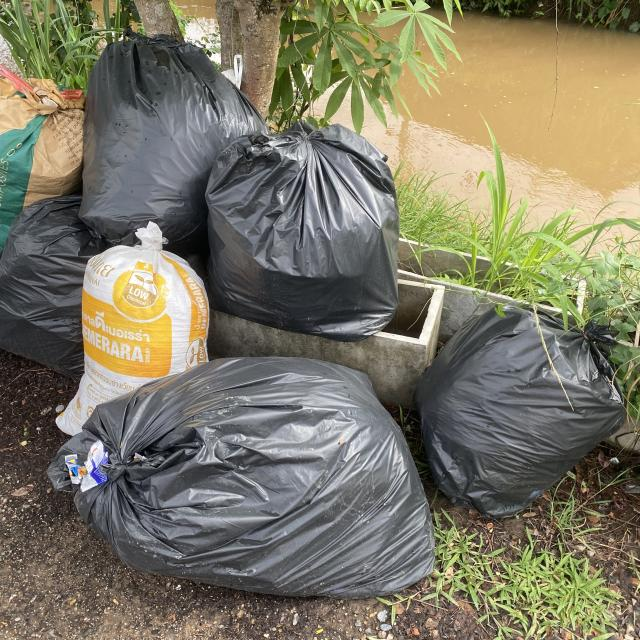Single-layer Plastic: (48, 358, 435, 599), (415, 305, 625, 518), (206, 121, 399, 341), (80, 31, 268, 252), (60, 222, 213, 433), (0, 195, 109, 380)
